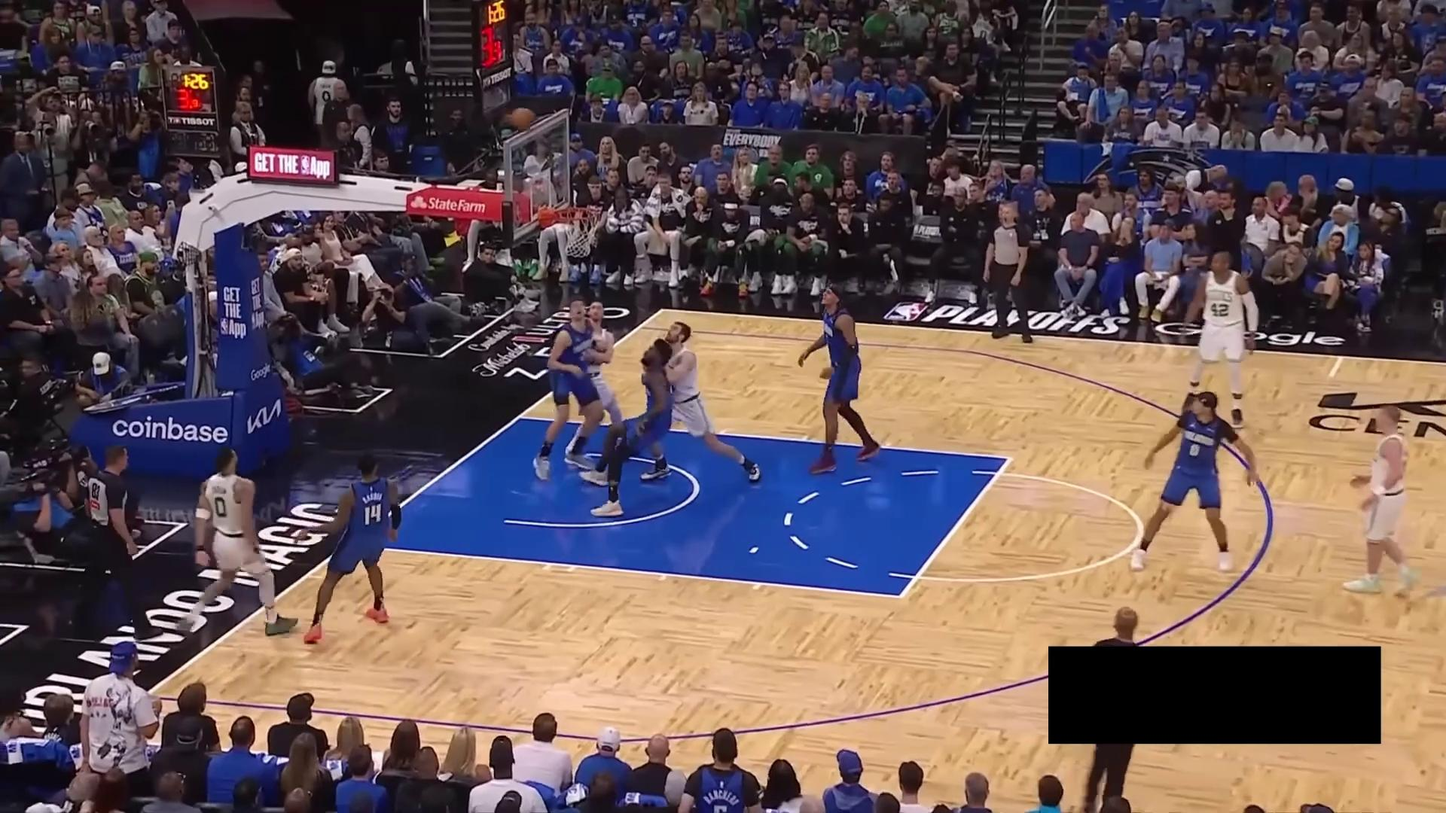ball: (510, 107, 534, 130)
number: (360, 501, 381, 527), (213, 496, 232, 520), (1210, 302, 1231, 318), (1189, 443, 1201, 457)
player: (174, 445, 299, 638), (1130, 393, 1262, 575), (639, 320, 762, 483), (302, 450, 403, 646), (577, 336, 674, 518), (797, 280, 881, 474), (1335, 402, 1417, 596), (1181, 248, 1263, 425), (533, 300, 606, 481), (565, 300, 623, 462)
referee: (75, 439, 167, 640), (1080, 603, 1153, 811), (978, 195, 1040, 343)
rim: (554, 206, 600, 222)
